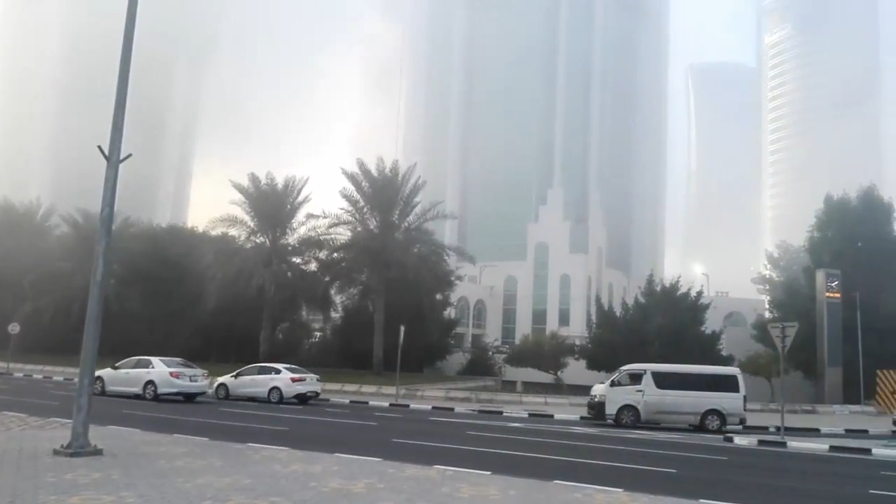car: (585, 361, 749, 436), (86, 353, 210, 404), (212, 362, 321, 406)
